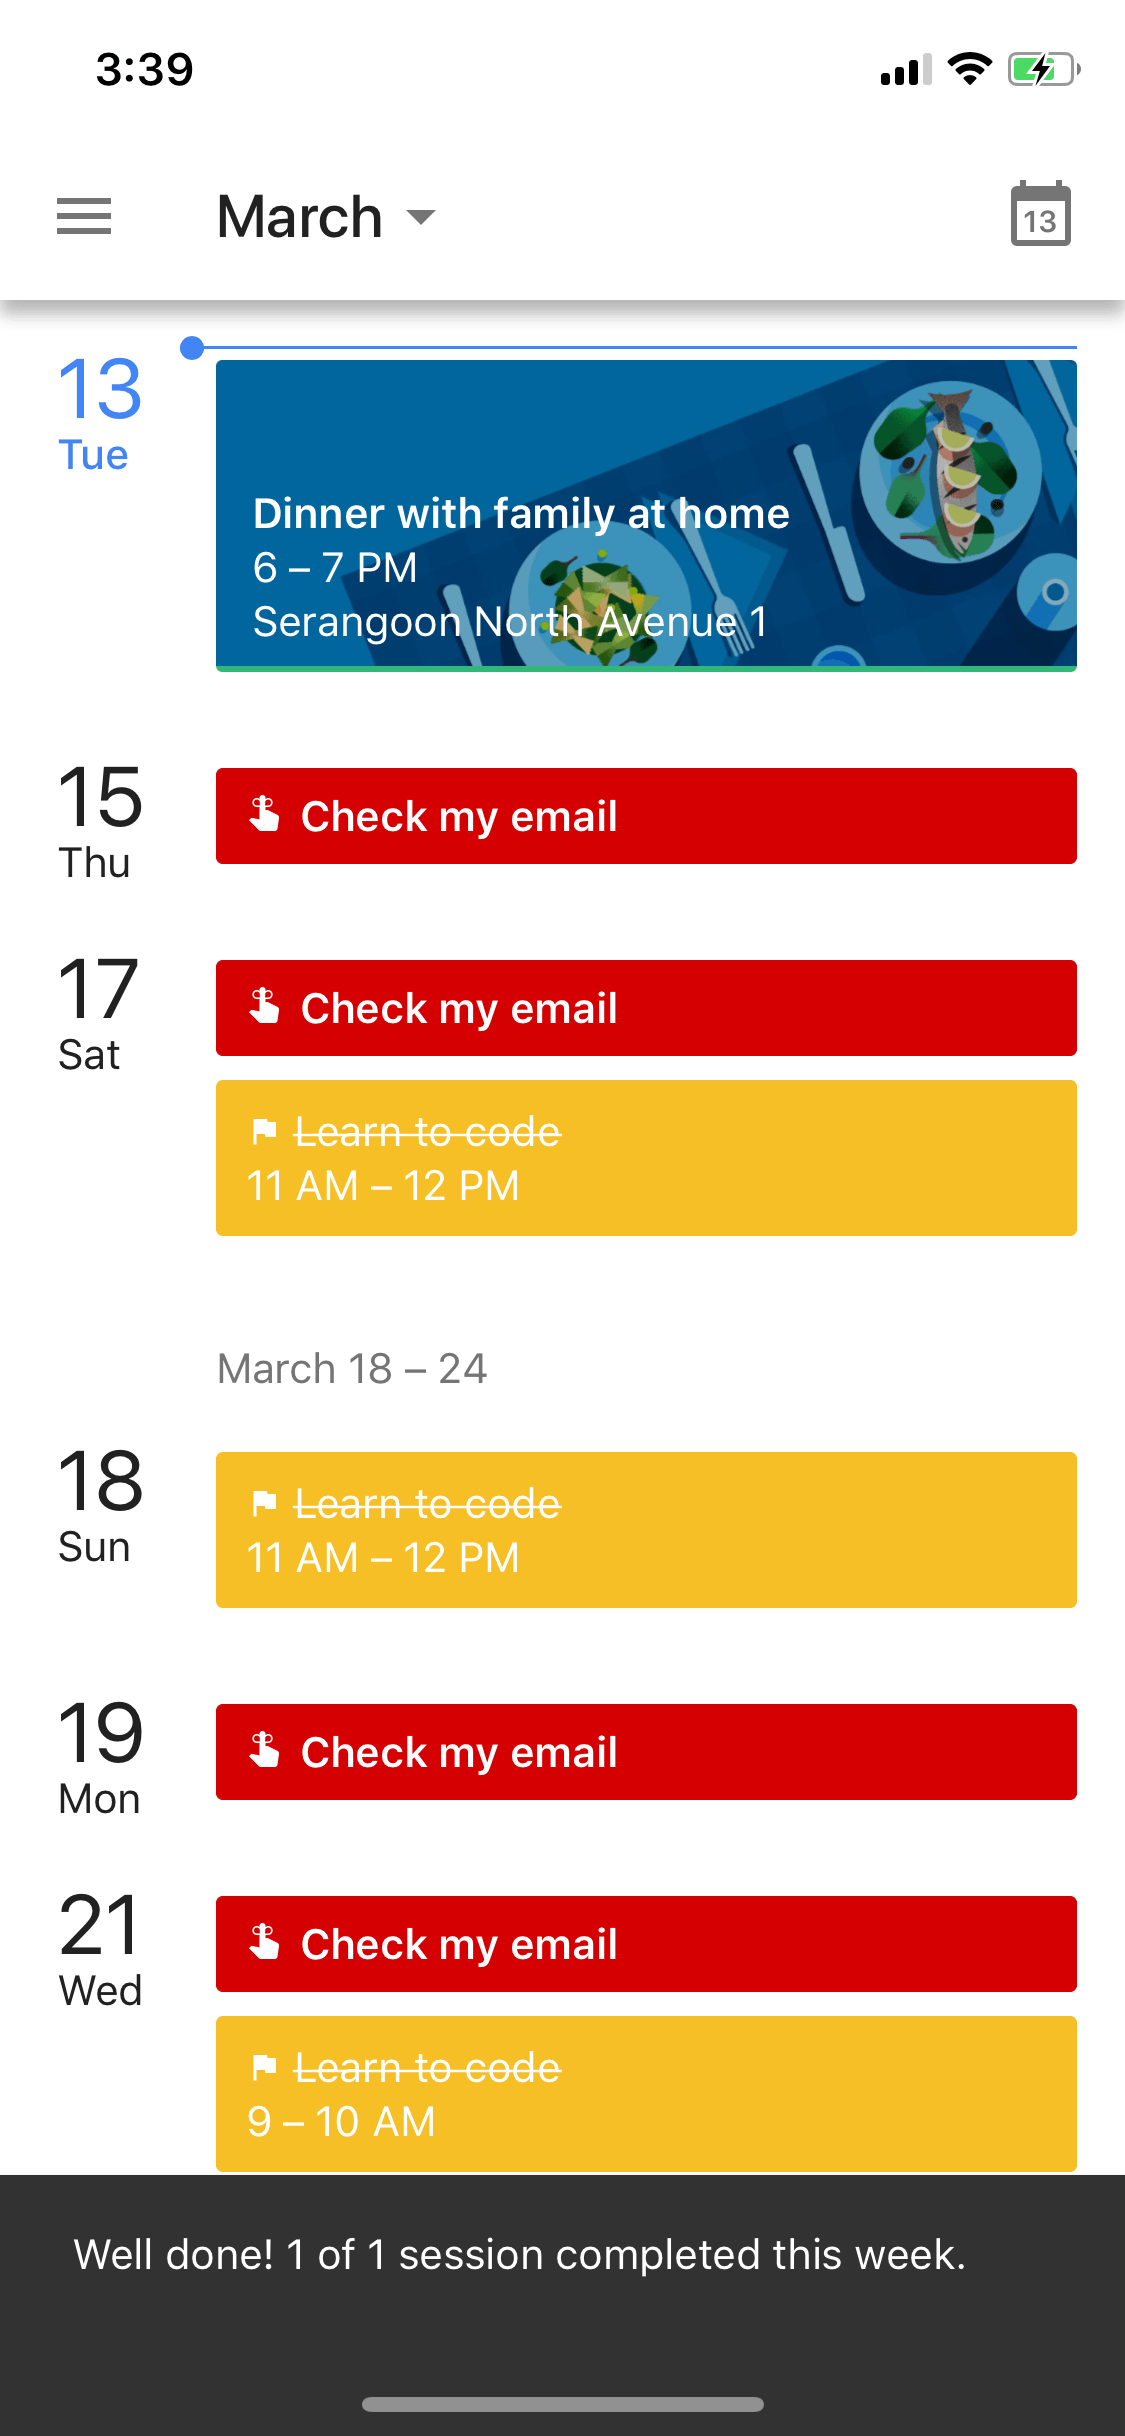Buttons: (194, 166, 465, 277), (23, 163, 145, 273), (984, 165, 1089, 277)
